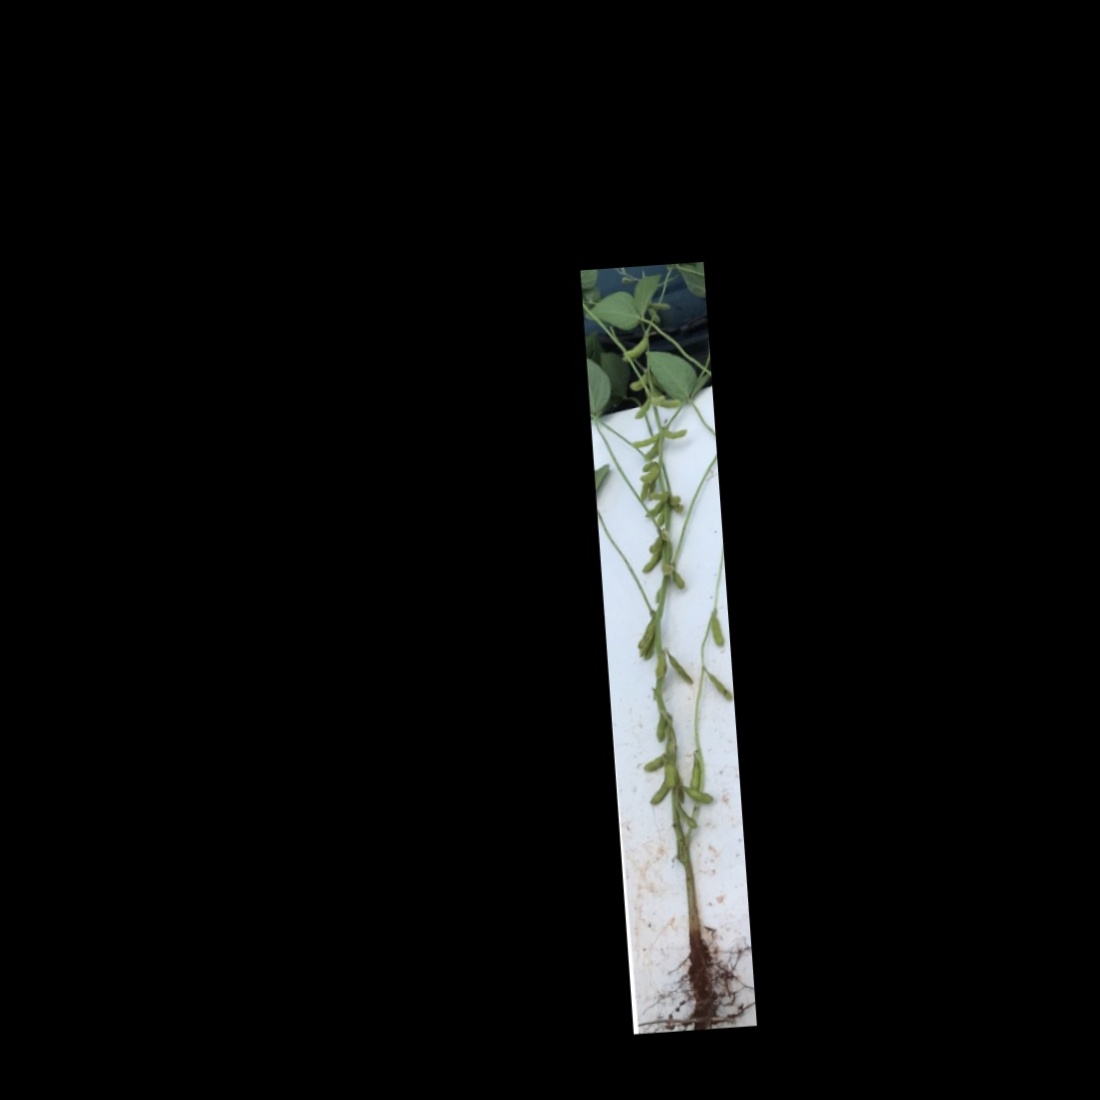pod: (662, 646, 694, 691), (700, 666, 732, 705), (683, 750, 703, 791), (620, 333, 649, 361), (708, 612, 727, 651), (675, 800, 698, 829), (627, 434, 661, 451), (645, 487, 672, 504), (660, 427, 690, 440)
soy: (582, 263, 753, 1032)
